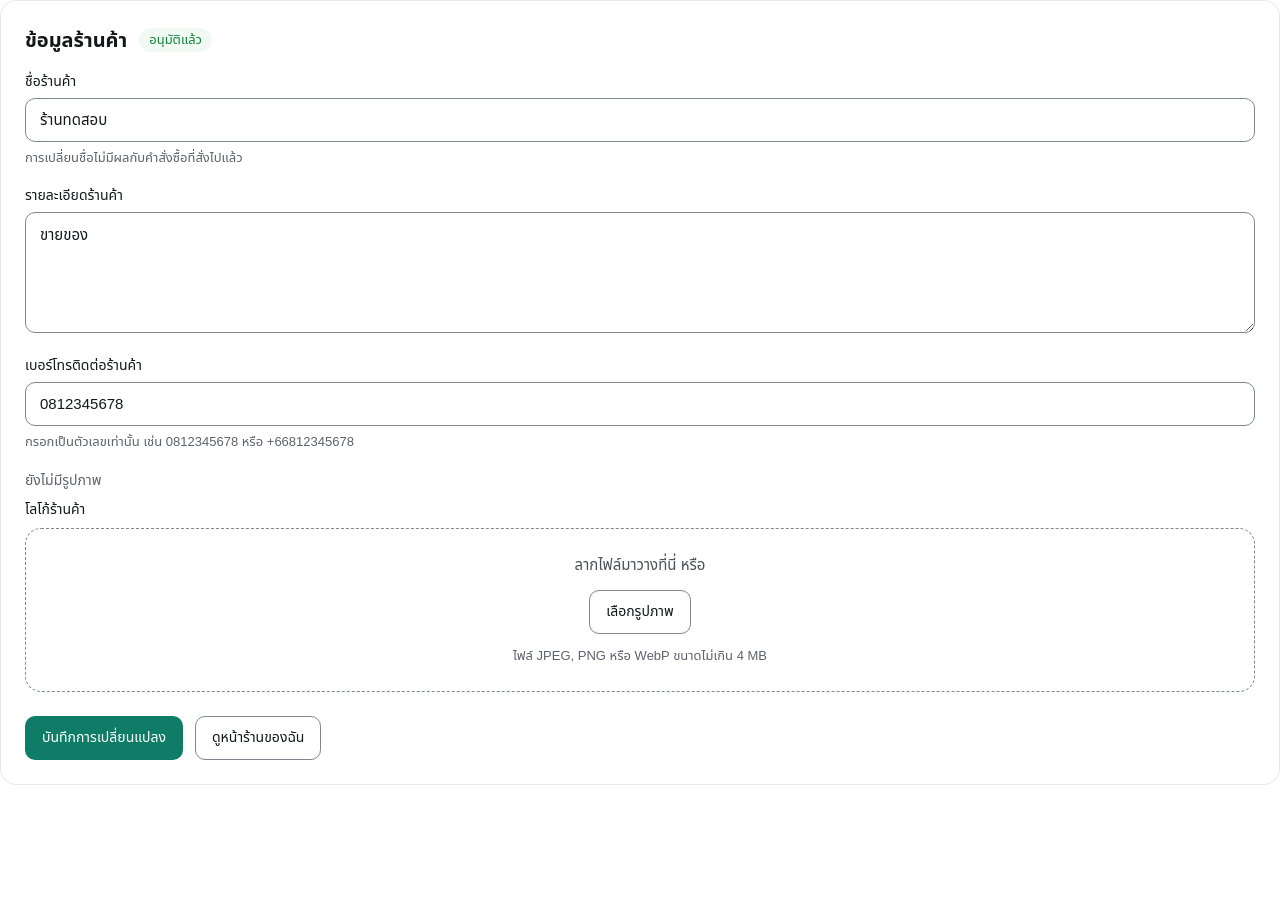
Scenario: StoreSection and StoreForm › says nothing changed and sends nothing when the form is unchanged
Click the button "บันทึกการเปลี่ยนแปลง" at (104, 738), box left=25, top=716, right=183, bottom=760
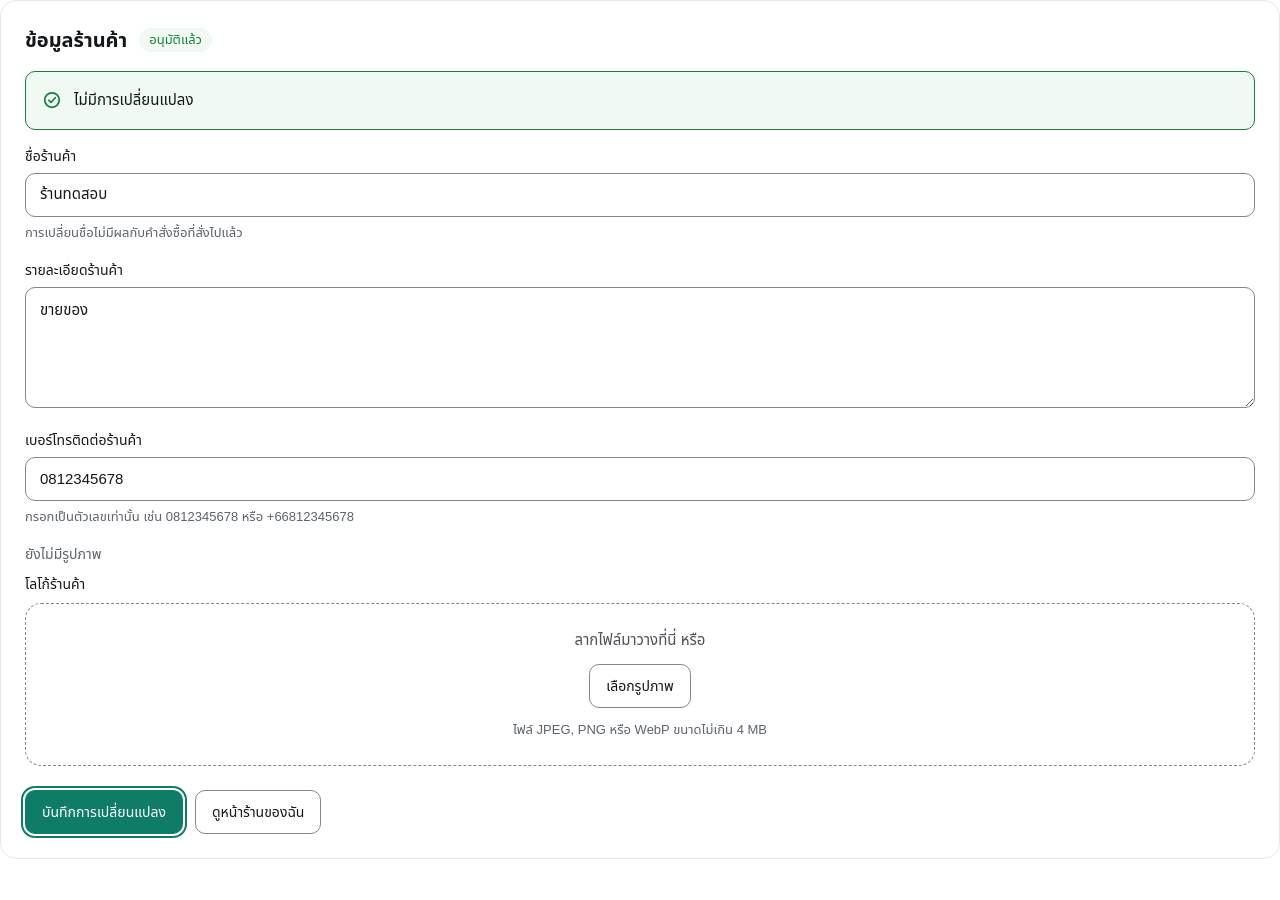
Expected: the text "ไม่มีการเปลี่ยนแปลง" is shown, left=74, top=91, right=194, bottom=108
